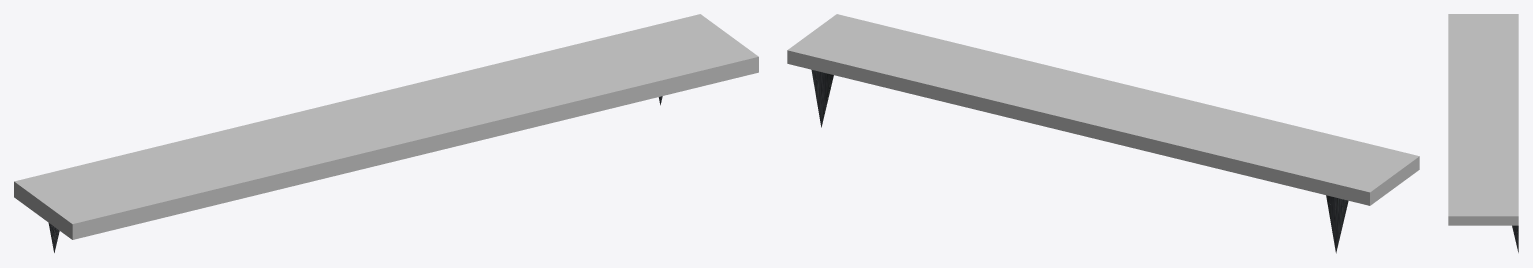
Rendered from medium shelf.fbx.
3 renders of one model, left to right at view 1: azimuth 30°, elevation 25°; view 2: azimuth 150°, elevation 25°; view 3: azimuth 270°, elevation 25°, orthographic. The views are drawn at different scales.
Parts seen in each view (by area): view 1: Cube; view 2: Cube, Cone; view 3: Cube, Cone.
Part boxes in pixels (x1=…): Cube: x1=14, y1=14, x2=758, y2=239; Cube: x1=787, y1=14, x2=1419, y2=205; Cone: x1=811, y1=69, x2=1348, y2=253; Cube: x1=1448, y1=14, x2=1518, y2=225; Cone: x1=1512, y1=225, x2=1518, y2=252.
Bounding box in the file's own units: 1357 × 155 × 200.
